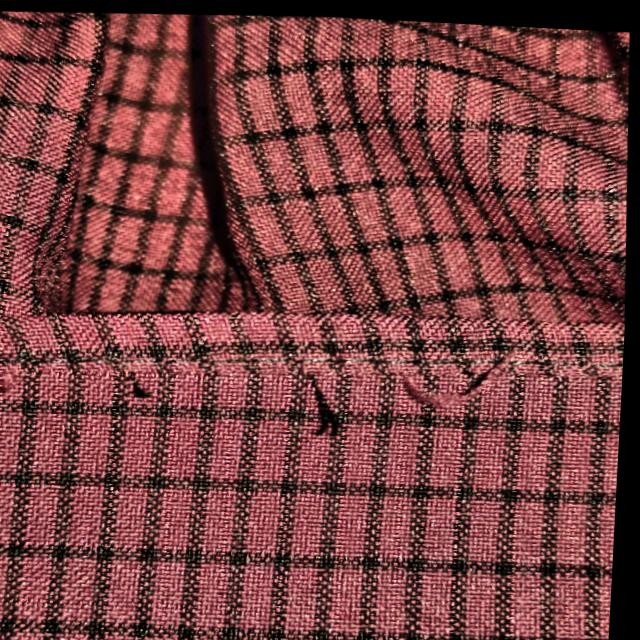Stitch: (400, 323, 559, 434), (273, 357, 372, 482)
